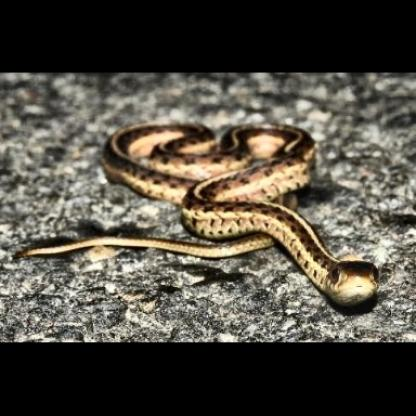Snake: (25, 120, 381, 305)
